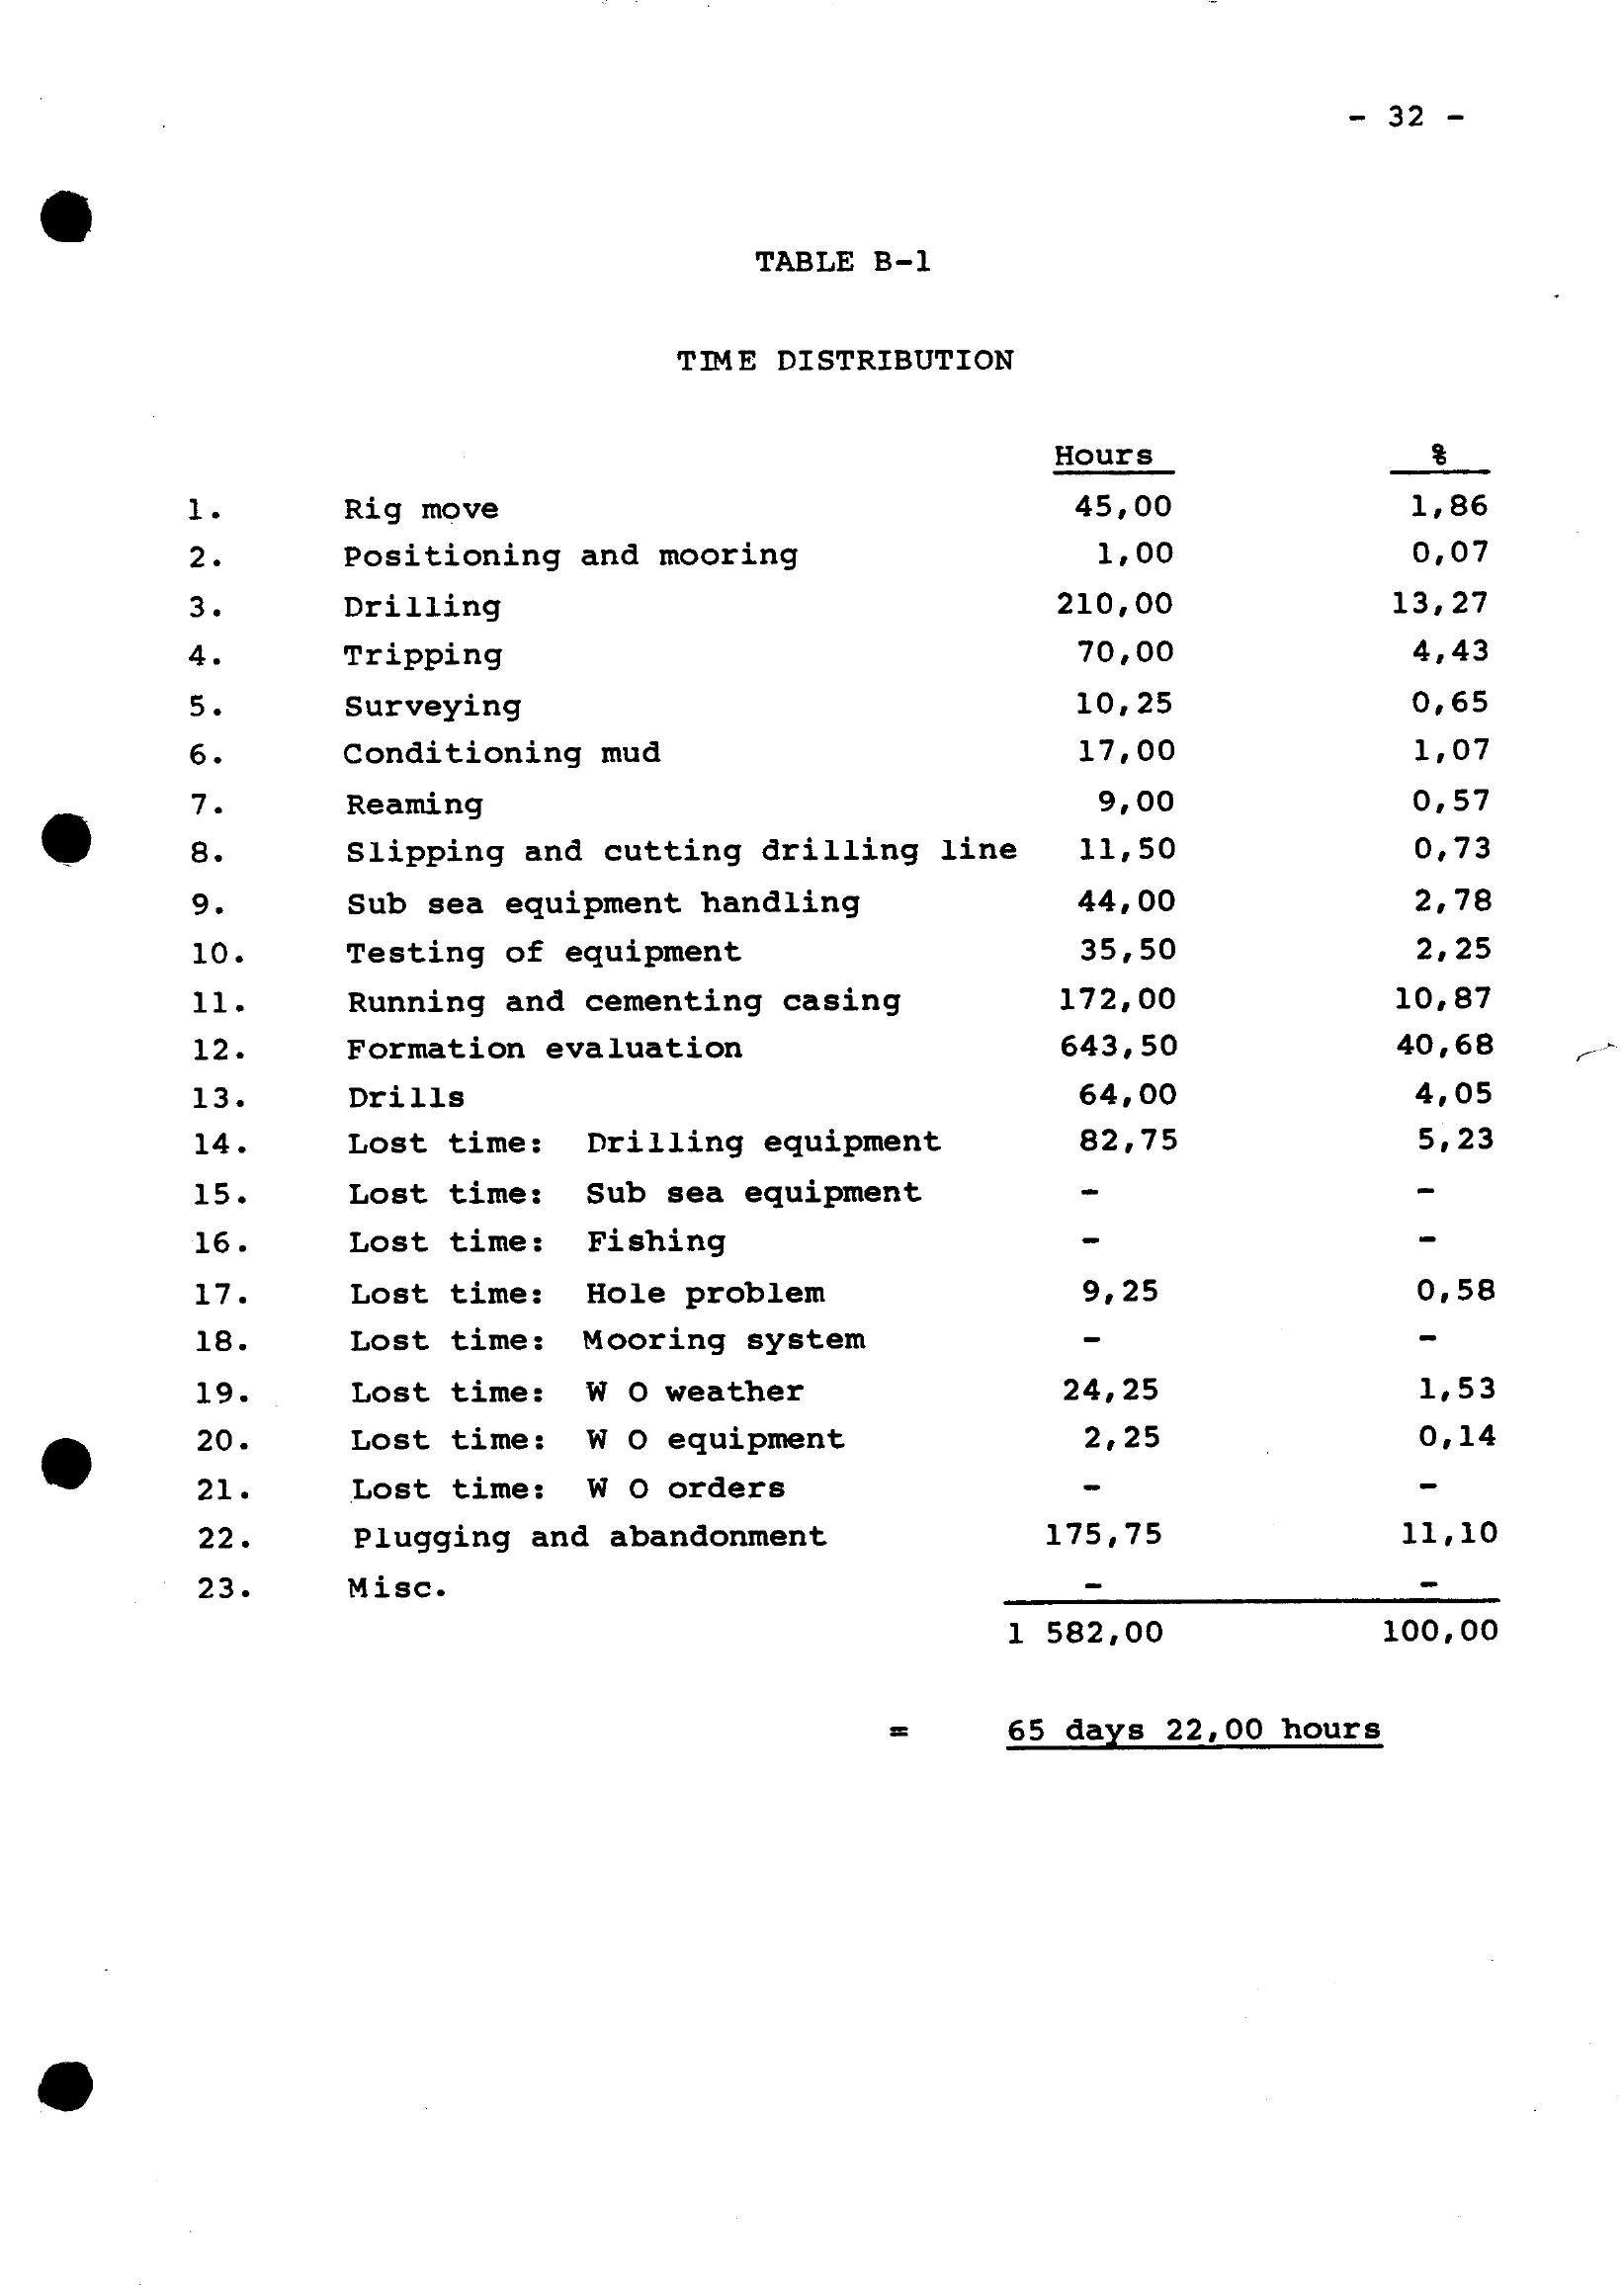table: (134, 327, 1624, 1664)
text: (982, 1698, 1438, 1775), (738, 228, 953, 288)
